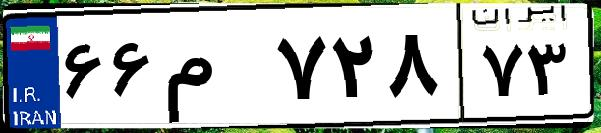2: (330, 28, 385, 110)
3: (525, 38, 570, 115)
6: (57, 26, 110, 100), (110, 28, 158, 98)
7: (270, 28, 330, 110), (475, 38, 525, 113)
8: (385, 28, 445, 110)
م: (158, 20, 270, 120)
